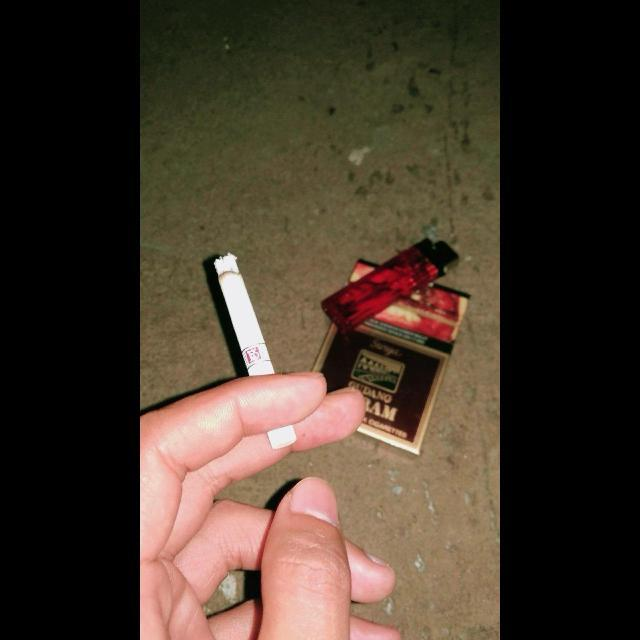rokok: (215, 248, 298, 452)
